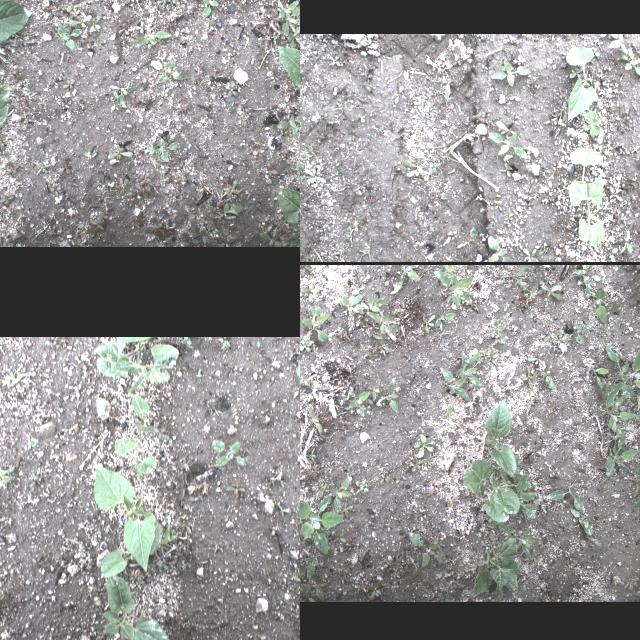crop: (92, 464, 156, 572), (101, 577, 176, 640), (94, 338, 180, 392), (99, 520, 161, 576), (464, 460, 520, 522), (467, 538, 521, 600), (484, 400, 516, 478), (568, 177, 604, 246), (566, 45, 596, 121), (0, 0, 28, 73), (114, 436, 158, 478), (276, 44, 300, 115), (273, 186, 300, 246), (570, 146, 600, 188), (566, 110, 600, 138), (132, 394, 154, 432), (118, 336, 150, 344)
weed: (300, 497, 343, 555), (604, 343, 640, 406), (434, 270, 474, 310), (408, 530, 448, 566), (584, 286, 622, 322), (300, 304, 330, 344), (605, 438, 640, 472), (487, 130, 529, 158), (438, 365, 469, 401), (492, 58, 530, 86), (546, 484, 584, 510), (306, 548, 336, 580), (607, 394, 637, 426), (0, 147, 22, 190), (210, 439, 244, 466), (328, 476, 352, 514), (150, 58, 184, 84), (514, 526, 540, 560), (459, 352, 485, 386), (496, 264, 530, 290), (516, 475, 536, 519), (144, 138, 180, 162), (498, 470, 546, 488), (424, 150, 462, 172), (366, 310, 400, 334), (134, 27, 174, 47), (393, 264, 421, 292), (353, 292, 391, 312), (278, 2, 300, 36), (574, 264, 602, 290), (486, 236, 513, 262), (56, 22, 80, 50), (560, 320, 588, 344), (524, 508, 536, 564), (108, 84, 138, 106), (348, 386, 370, 416), (466, 341, 492, 363), (621, 47, 640, 77), (18, 35, 36, 65), (218, 202, 246, 220), (192, 225, 216, 245), (416, 433, 436, 457), (581, 524, 601, 548), (404, 157, 428, 176), (628, 467, 640, 505), (157, 521, 177, 543), (259, 228, 283, 246), (275, 111, 300, 128), (540, 358, 554, 388), (458, 226, 477, 248), (89, 209, 105, 235), (108, 144, 134, 160), (608, 34, 628, 54), (300, 283, 320, 303), (146, 215, 164, 237), (435, 312, 457, 330), (591, 366, 609, 388), (304, 167, 328, 183), (493, 315, 509, 339), (341, 294, 364, 310), (309, 407, 323, 433), (202, 0, 220, 20), (542, 282, 562, 300), (612, 420, 622, 456), (571, 508, 589, 528), (258, 162, 280, 178), (496, 119, 518, 135), (388, 378, 398, 412), (315, 573, 327, 601), (442, 404, 456, 428), (300, 583, 318, 601), (368, 580, 384, 600), (499, 522, 513, 544), (522, 366, 536, 388), (67, 14, 91, 26), (118, 177, 132, 197), (226, 480, 246, 494), (405, 559, 419, 579), (410, 458, 430, 472), (422, 313, 436, 333), (5, 371, 27, 383), (136, 183, 152, 199), (64, 0, 82, 14), (165, 222, 179, 240), (527, 352, 545, 366), (226, 180, 238, 200), (523, 247, 539, 262), (270, 465, 282, 485), (544, 329, 564, 341), (287, 26, 300, 44), (151, 426, 169, 439), (0, 463, 15, 478), (58, 160, 72, 176), (48, 182, 62, 198), (46, 338, 62, 352), (276, 502, 292, 516), (339, 502, 353, 518), (442, 78, 452, 100), (368, 378, 379, 398), (34, 162, 52, 174), (80, 33, 98, 45), (568, 66, 586, 78), (0, 194, 15, 208), (220, 236, 238, 247), (317, 484, 331, 498), (361, 66, 372, 82), (0, 475, 11, 491), (88, 18, 100, 32), (133, 20, 145, 34), (610, 186, 622, 200), (300, 373, 314, 385), (484, 352, 498, 364), (128, 190, 138, 206), (136, 211, 146, 227), (395, 87, 405, 103), (493, 584, 503, 600), (356, 480, 369, 492), (636, 394, 640, 433), (27, 474, 38, 488), (161, 0, 180, 8), (500, 163, 512, 175), (218, 337, 230, 349), (510, 471, 522, 483), (516, 295, 528, 307), (300, 338, 311, 351), (300, 264, 313, 275), (332, 100, 346, 110), (26, 437, 40, 447), (332, 532, 346, 542), (380, 336, 390, 350), (469, 292, 479, 306), (82, 152, 98, 160), (306, 144, 314, 160), (609, 246, 617, 262), (118, 25, 130, 35), (174, 27, 186, 37), (364, 392, 374, 404), (540, 277, 552, 287), (62, 80, 76, 88), (442, 264, 456, 272), (142, 174, 152, 184), (150, 180, 160, 190), (361, 246, 371, 256), (330, 55, 340, 65), (158, 559, 168, 569), (370, 330, 382, 338), (307, 253, 317, 262), (442, 430, 451, 440), (336, 57, 346, 65), (494, 199, 502, 209), (182, 336, 192, 344), (380, 473, 388, 483), (135, 170, 141, 182), (600, 34, 618, 38), (538, 247, 546, 256), (202, 76, 212, 82), (626, 242, 632, 252), (104, 522, 110, 532), (78, 542, 84, 552), (530, 285, 536, 295), (292, 574, 300, 581), (422, 106, 428, 115), (111, 397, 117, 405), (439, 577, 446, 583), (515, 455, 519, 465), (256, 340, 260, 348), (493, 518, 497, 526), (637, 47, 640, 56), (442, 331, 448, 333)
